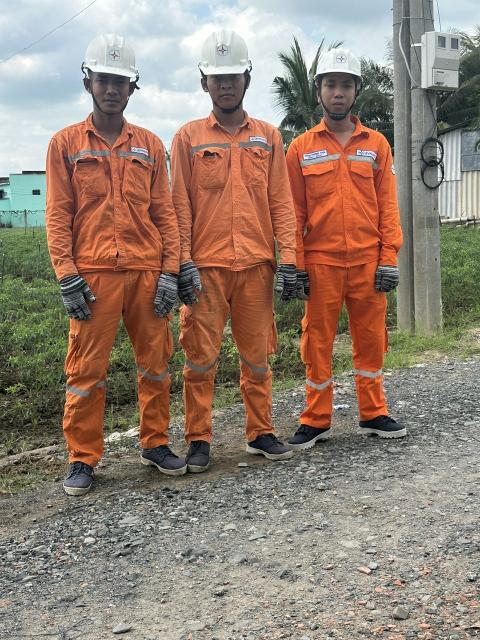gloves: (51, 268, 99, 323), (142, 264, 181, 318), (373, 256, 417, 296), (174, 258, 205, 309), (268, 260, 297, 303), (295, 266, 320, 310)
helmet: (76, 34, 151, 83), (188, 31, 262, 78), (305, 44, 374, 91)
shoes: (130, 437, 193, 491), (240, 422, 293, 483), (284, 409, 340, 456), (356, 404, 417, 444), (62, 452, 101, 508), (186, 429, 219, 483)
